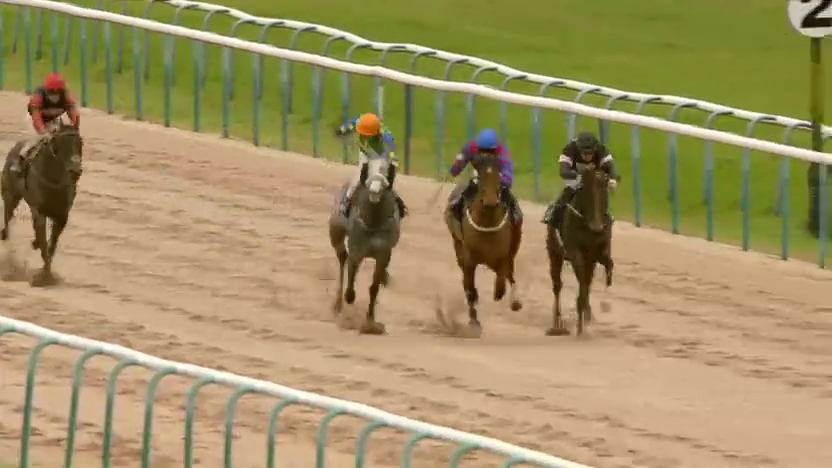jockey: (15, 72, 80, 175), (339, 115, 399, 223), (449, 128, 519, 217), (552, 134, 615, 224)
